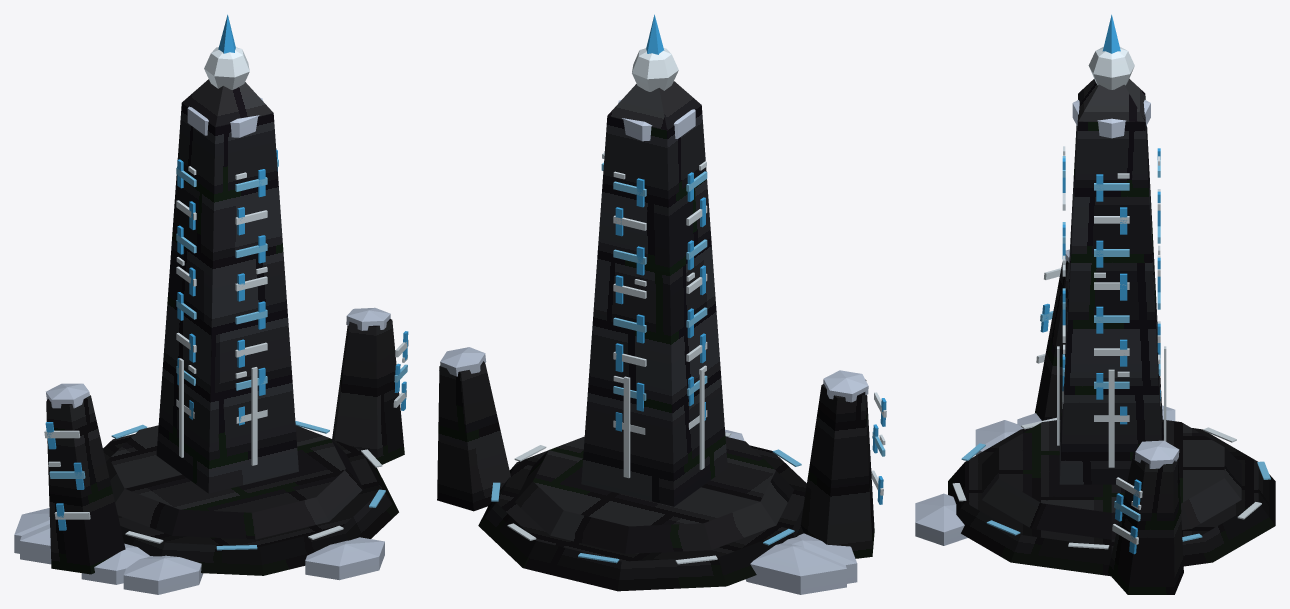
The model's file is rune_waystone.glb.
3 views of the same model, side by side, from view 1: azimuth 30°, elevation 25°; view 2: azimuth 150°, elevation 25°; view 3: azimuth 270°, elevation 25° (orthographic). The views are drawn at different scales.
Parts seen in each view (by area): view 1: rune_waystone; view 2: rune_waystone; view 3: rune_waystone.
Boxes of the visible parts, x1,y1,x2,y2 form: rune_waystone: (14, 14, 408, 594); rune_waystone: (437, 14, 886, 594); rune_waystone: (915, 14, 1275, 594).
Size of the model in its own units: 3.88 by 4.72 by 3.03.
3 materials, 1 textured.
